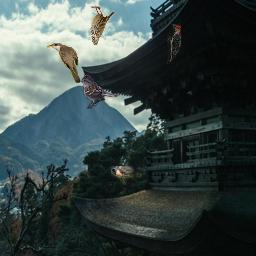Cuckoo: (47, 43, 80, 83)
Sparrow: (80, 74, 120, 109), (90, 6, 115, 45)
Swallow: (111, 166, 142, 185)
Woodpecker: (167, 24, 181, 64)
